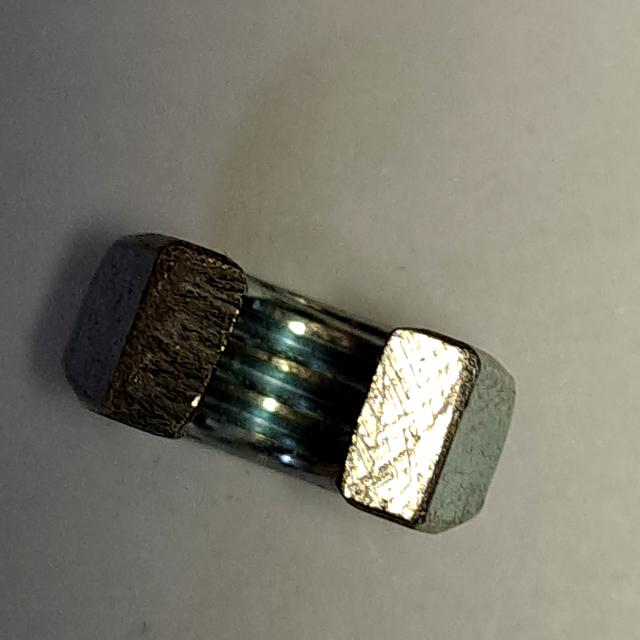Side-Fracture: (45, 212, 532, 566)
